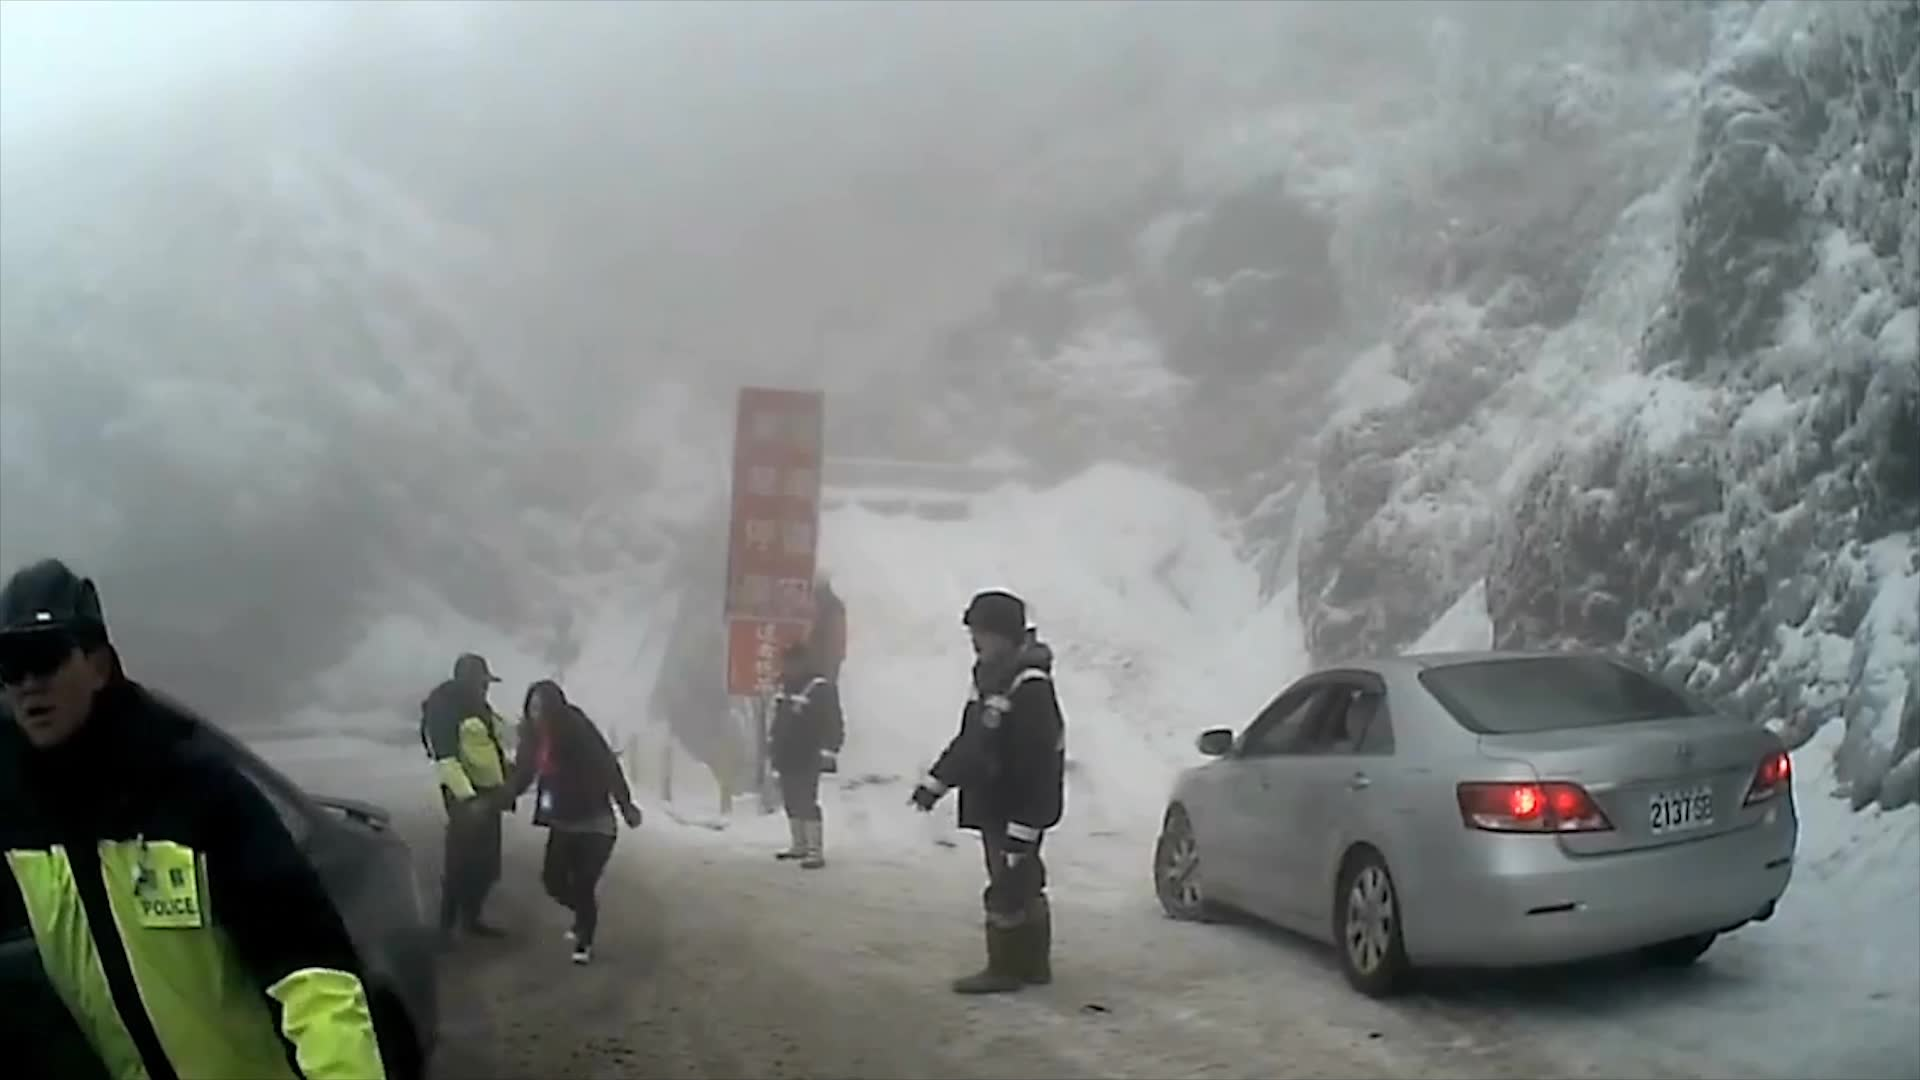pedestrian: (1, 559, 388, 1080), (905, 586, 1067, 997), (494, 679, 640, 962), (414, 654, 526, 939), (764, 637, 844, 870), (787, 564, 850, 743)
vehicle: (1147, 648, 1798, 998), (0, 664, 436, 1079)
